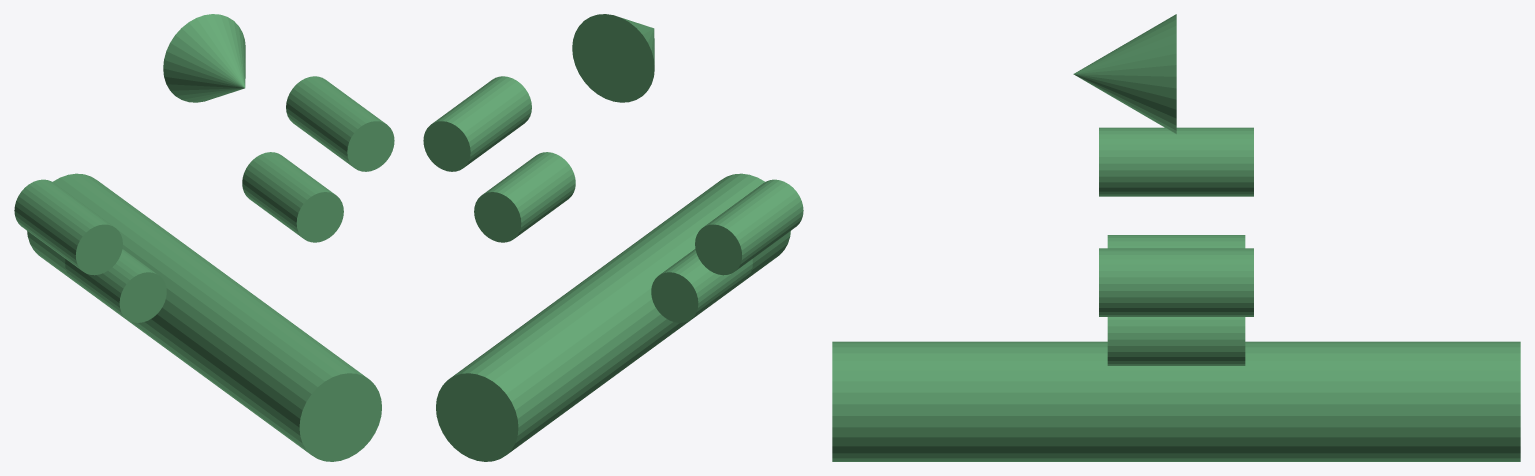
Rendered from cactus.glb.
The picture shows the model from 3 angles, left to right: view 1: azimuth 30°, elevation 25°; view 2: azimuth 150°, elevation 25°; view 3: azimuth 270°, elevation 25°; orthographic projection. The views are drawn at different scales.
Visible parts, largest first — view 1: world; view 2: world; view 3: world.
Boxes of the visible parts, left/top/right/bottom form: world: left=14, top=14, right=394, bottom=461; world: left=423, top=14, right=803, bottom=461; world: left=832, top=14, right=1520, bottom=461.
Bounding box in the file's own units: 2.7 × 2.8 × 4.
